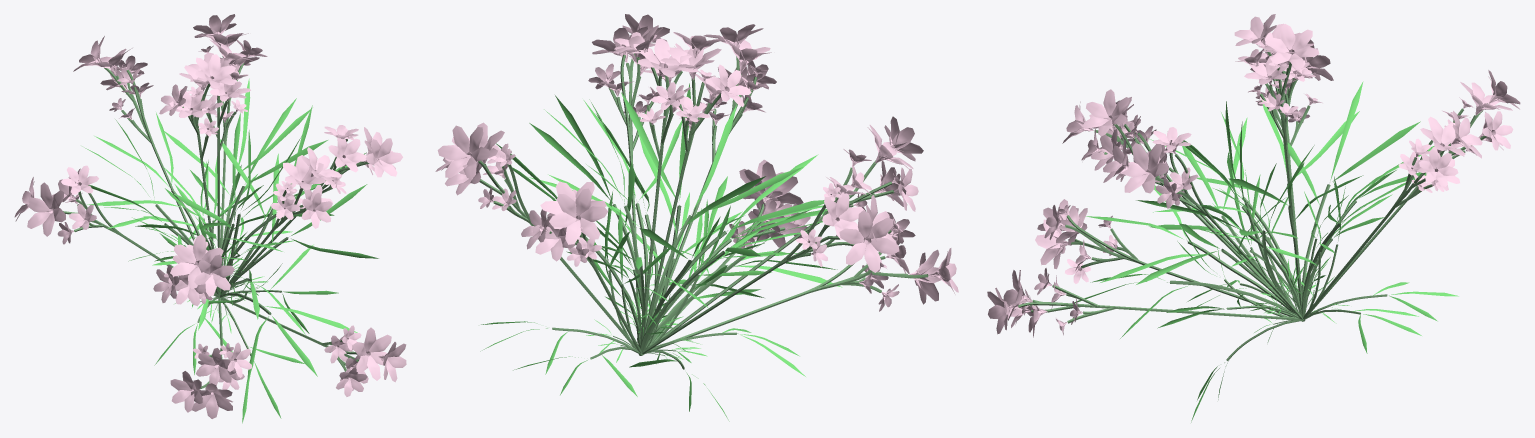
File: plants.glb
The picture shows the model from 3 angles, left to right: view 1: azimuth 30°, elevation 25°; view 2: azimuth 150°, elevation 25°; view 3: azimuth 270°, elevation 25°; orthographic projection. The views are drawn at different scales.
Visible parts, largest first — view 1: Object_5, Object_9, Object_10, Object_2, Object_4, Object_3; view 2: Object_5, Object_9, Object_10, Object_2, Object_4, Object_3; view 3: Object_5, Object_9, Object_10, Object_2, Object_4, Object_3.
Part boxes in pixels (x1,y1,x2,y2): Object_5: (14, 14, 406, 418); Object_9: (82, 78, 378, 423); Object_10: (155, 174, 288, 356); Object_2: (69, 56, 363, 384); Object_4: (123, 145, 305, 345); Object_3: (63, 46, 369, 389); Object_5: (435, 14, 958, 311); Object_9: (480, 83, 842, 421); Object_10: (552, 202, 745, 369); Object_2: (479, 64, 909, 294); Object_4: (560, 178, 804, 354); Object_3: (478, 53, 928, 292); Object_5: (987, 14, 1520, 337); Object_9: (1066, 81, 1458, 422); Object_10: (1167, 184, 1387, 360); Object_2: (1034, 69, 1477, 317); Object_4: (1132, 154, 1411, 320); Object_3: (1018, 50, 1487, 323).
Bounding box in the file's own units: 770 × 785 × 978.
